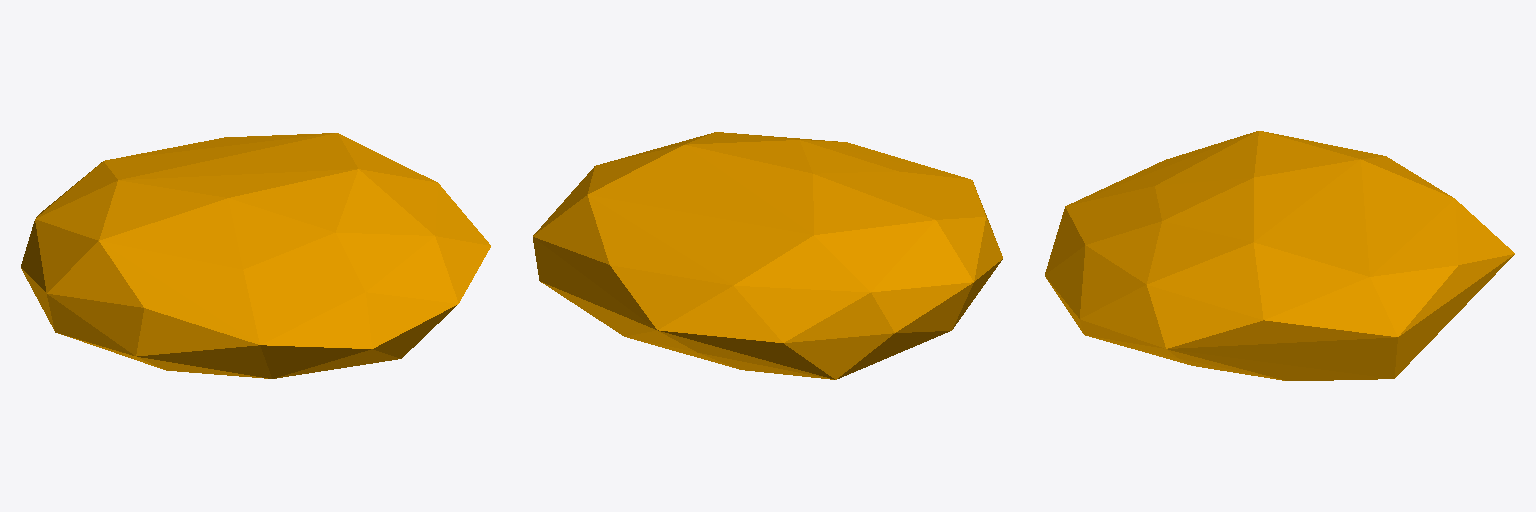
The robot description file, URDF, robot "ic0746":
<?xml version="1.0"?>
<robot name="ic0746">
  <link name="link">
    <contact>
      <lateral_friction value="0.6"/>
    </contact>
    <inertial>
      <mass value = "0.3145007148467064"/>
      <inertia ixx="0.0001371464594267161" ixy="1.0075280442392558e-20" ixz="-2.4757350297589607e-20" iyy="0.0001443011247916339" iyz="-1.8228303431960204e-22" izz="0.00024939639914037205" />
    </inertial>
    <visual name="visual">
      <geometry>
        <mesh filename="ic0746.obj"/>
      </geometry>
    </visual>
    <collision name="collision">
      <geometry>
        <mesh filename="ic0746.obj"/>
      </geometry>
    </collision>
  </link>
</robot>

--- Facts derived from the render (not from the file) ---
Views: 3 orthographic renders of the robot side by side, from view 1: azimuth 30°, elevation 25°; view 2: azimuth 150°, elevation 25°; view 3: azimuth 270°, elevation 25°.
Model ic0746 with 1 links and 0 joints (none), rooted at link, posed every joint at zero.
Links seen in each view (by area): view 1: link; view 2: link; view 3: link.
Link boxes in pixels (<box>): link: <box>21,133,490,378</box>; link: <box>533,132,1002,379</box>; link: <box>1045,131,1514,380</box>.
Bounding box of the posed robot: 0.0894 × 0.0953 × 0.0344 m (x, y, z).
Meshes: 1 distinct files referenced, 1 mesh visuals loaded (1 OBJ).
